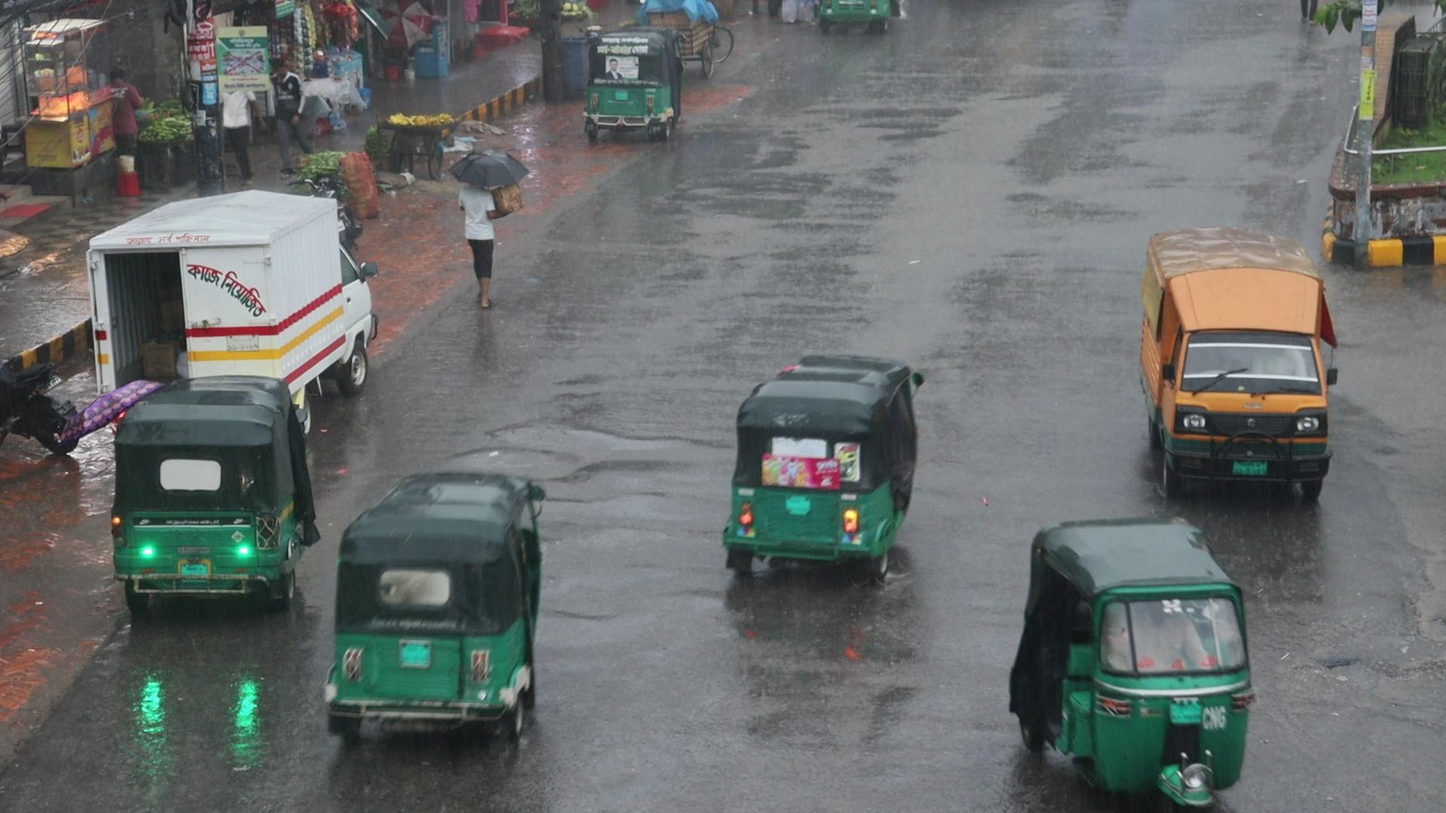Truck: (1136, 223, 1340, 504)
